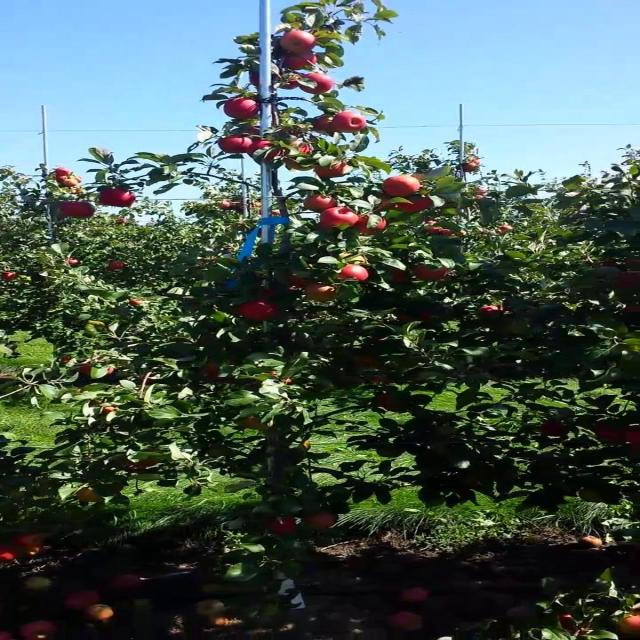apple: (0, 532, 47, 562), (382, 175, 420, 197), (222, 98, 260, 120), (280, 30, 316, 53), (238, 300, 278, 320), (320, 208, 360, 228), (393, 304, 433, 323), (333, 110, 367, 132), (300, 72, 333, 94), (200, 361, 233, 382), (353, 214, 387, 234), (218, 135, 253, 154), (376, 392, 409, 412), (100, 189, 136, 207), (302, 194, 338, 212), (282, 52, 318, 70), (58, 201, 96, 218), (304, 282, 338, 301), (78, 362, 116, 379), (396, 195, 433, 212), (618, 610, 640, 638), (313, 162, 349, 179), (593, 422, 624, 441), (411, 265, 447, 281), (304, 511, 336, 529), (498, 318, 529, 336), (267, 516, 296, 535), (338, 264, 367, 281), (540, 420, 569, 436), (613, 271, 640, 288), (311, 115, 333, 135), (76, 486, 102, 502), (127, 459, 159, 472), (238, 415, 267, 429), (351, 354, 380, 368), (373, 194, 396, 211), (247, 139, 273, 154), (89, 365, 116, 379), (478, 304, 504, 318), (624, 426, 640, 448), (289, 138, 311, 154), (280, 72, 300, 89), (207, 445, 233, 458), (284, 159, 311, 171), (287, 274, 309, 288), (389, 268, 409, 282), (262, 149, 284, 161), (258, 286, 278, 299), (236, 125, 260, 135), (369, 375, 393, 384), (249, 71, 260, 86), (102, 404, 118, 413), (624, 304, 640, 312), (102, 405, 118, 413), (264, 371, 278, 378), (280, 378, 293, 384), (89, 401, 98, 406)
